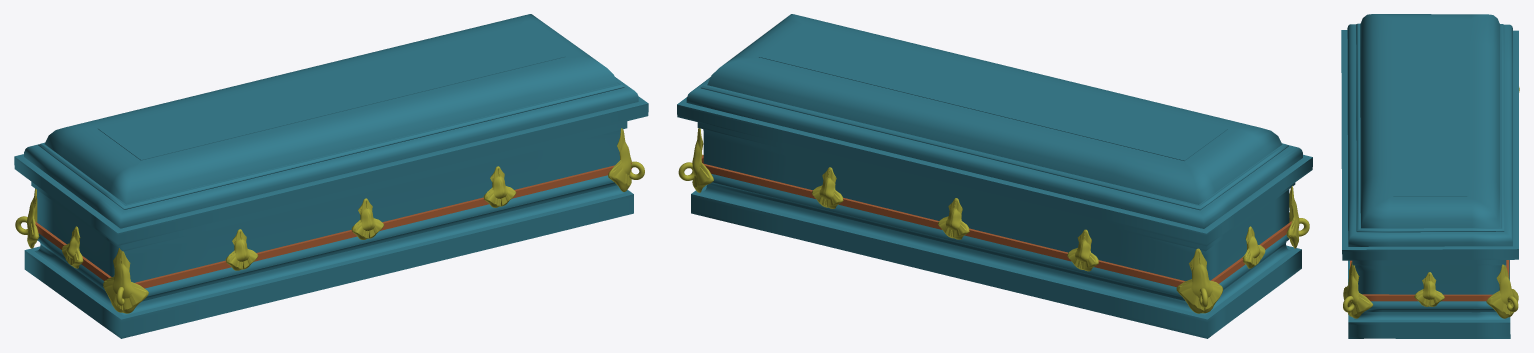
Rendered from casket3.fbx.
The picture shows the model from 3 angles, left to right: view 1: azimuth 30°, elevation 25°; view 2: azimuth 150°, elevation 25°; view 3: azimuth 270°, elevation 25°; orthographic projection. The views are drawn at different scales.
Parts seen in each view (by area): view 1: Box; view 2: Box; view 3: Box.
Part boxes in pixels (x1,y1,x2,y2): Box: [14, 14, 648, 338]; Box: [677, 14, 1312, 338]; Box: [1341, 14, 1519, 338].
Size of the model in its own units: 158689 by 42167 by 54380.
